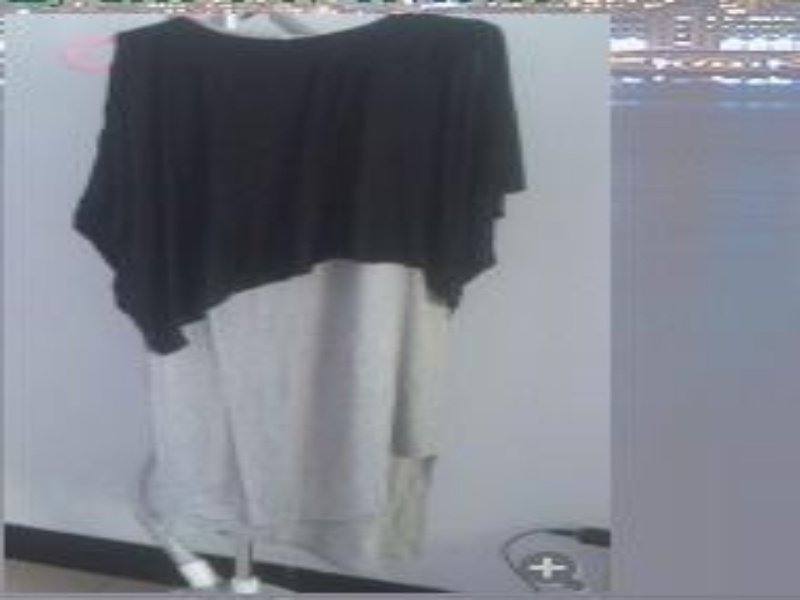vest: (67, 14, 531, 362)
vest_dress: (101, 14, 501, 584)
